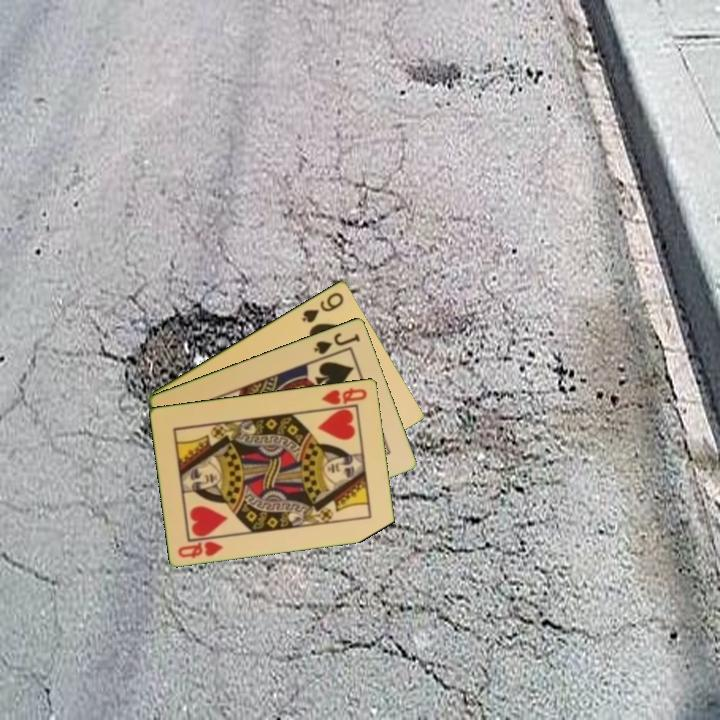9s: (298, 288, 347, 325)
Js: (310, 329, 363, 357)
Qh: (174, 537, 226, 561), (318, 384, 370, 407)
